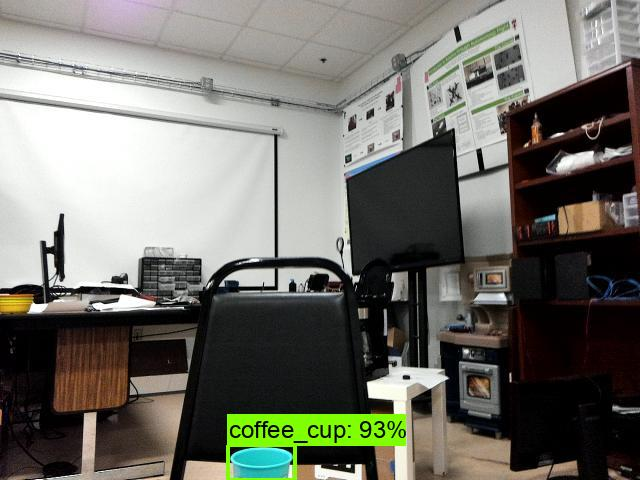coffee_cup: (227, 445, 298, 480)
